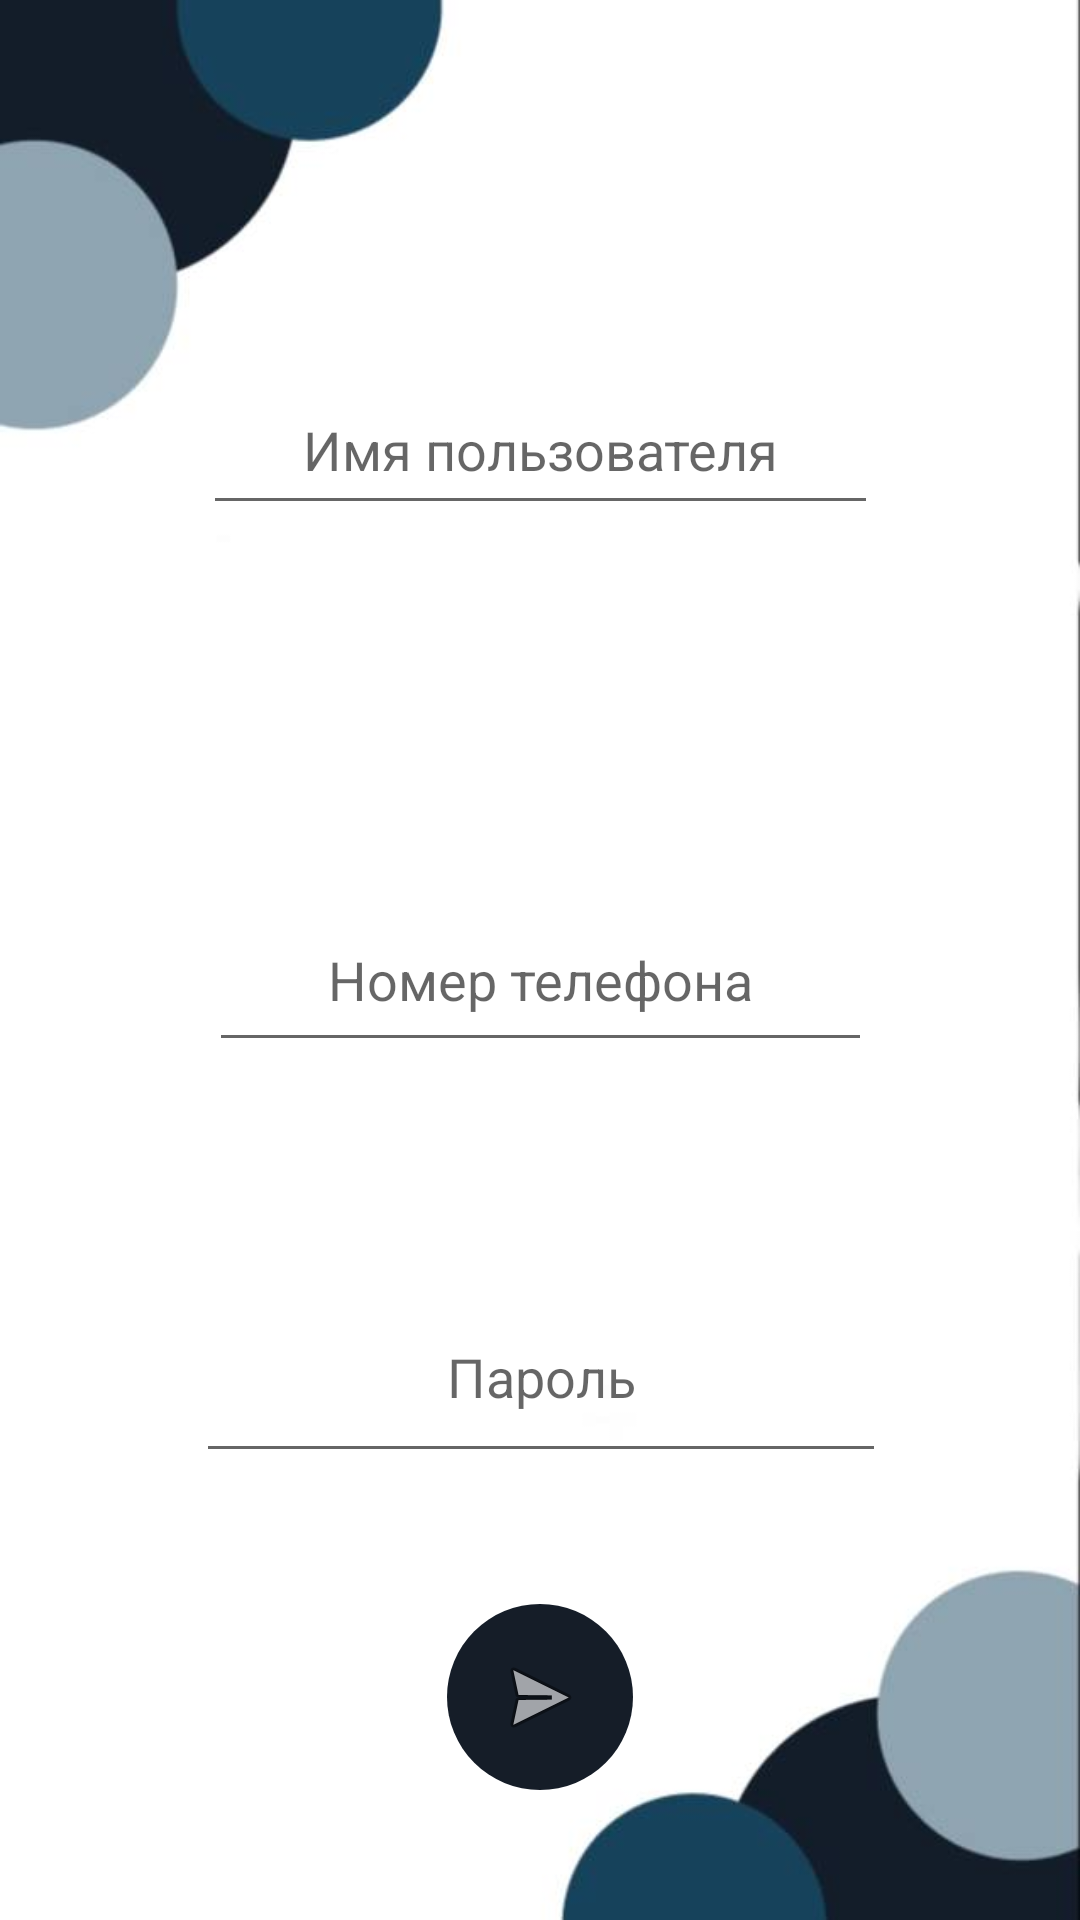

Icon click points for this 1080px×1920px phone screenshot, format [x,y]:
send: [540,1697]
